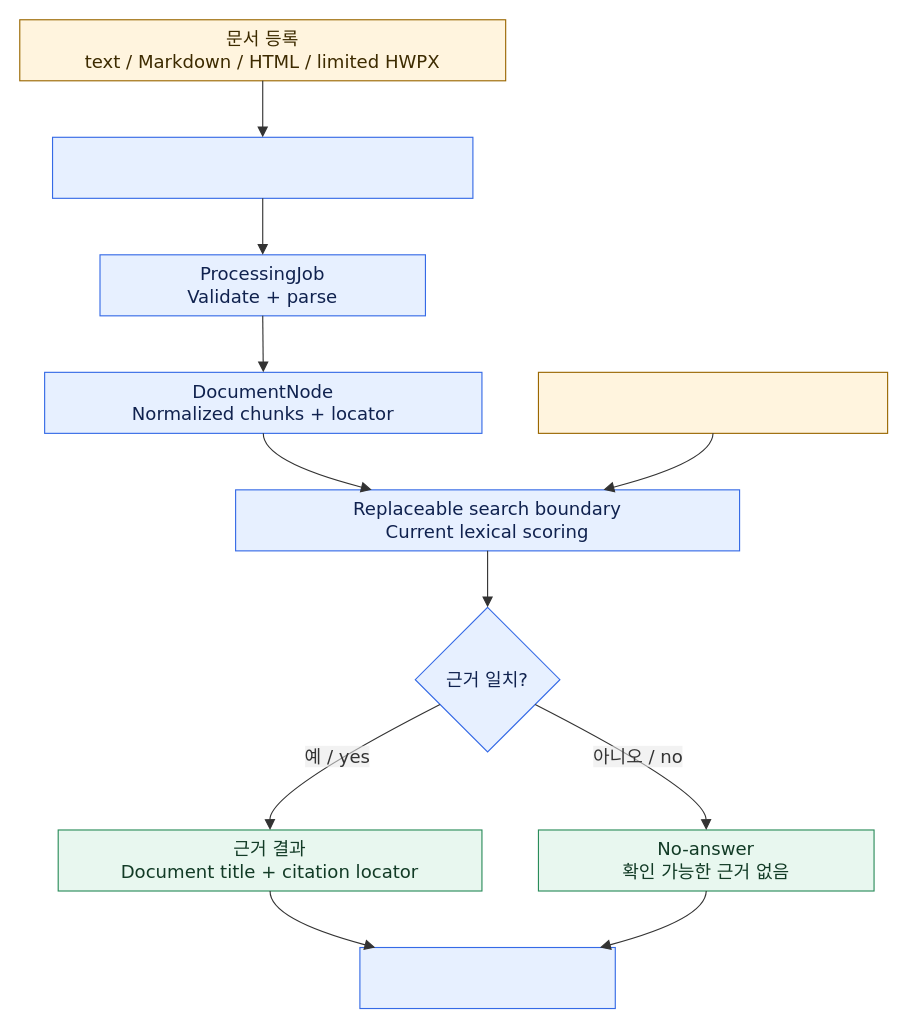
Some shapes in this 907 by 1028 pixel diagram are drawn without their labels. Here are the shapes that lost their labels. From the top down, the centre of each, then its label:
point (262, 167): SourceDocument Tenant-scoped metadata
point (712, 402): 사용자 검색어 Question / keyword
point (487, 977): Request ID + audit trail
